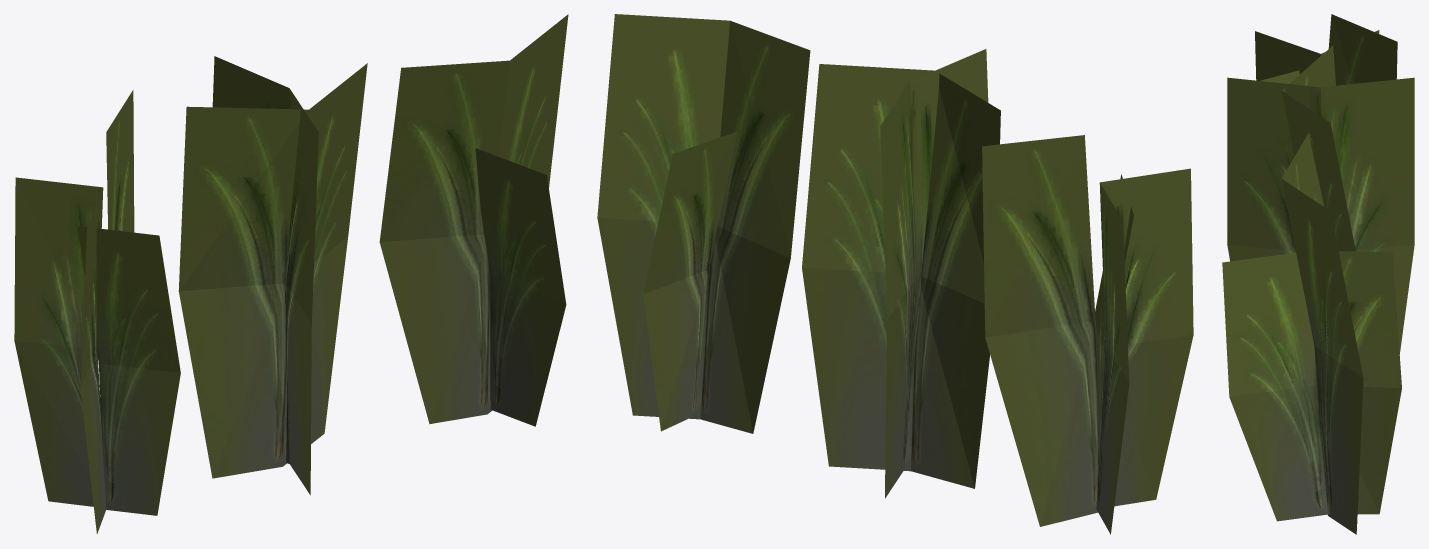
The model's file is bg_anh_foliage_crops12_sm_ksy.FBX.
The picture shows the model from 3 angles, left to right: view 1: azimuth 30°, elevation 25°; view 2: azimuth 150°, elevation 25°; view 3: azimuth 270°, elevation 25°; orthographic projection. The views are drawn at different scales.
Visible parts, largest first — view 1: bg_anh_foliage_crops12_sm_ksy; view 2: bg_anh_foliage_crops12_sm_ksy; view 3: bg_anh_foliage_crops12_sm_ksy.
Boxes of the visible parts, box(x1,y1,x2,y2) form: bg_anh_foliage_crops12_sm_ksy: box(14, 14, 568, 533); bg_anh_foliage_crops12_sm_ksy: box(597, 14, 1193, 534); bg_anh_foliage_crops12_sm_ksy: box(1222, 14, 1414, 534).
Bounding box in the file's own units: 96.86 × 66.55 × 33.91.
